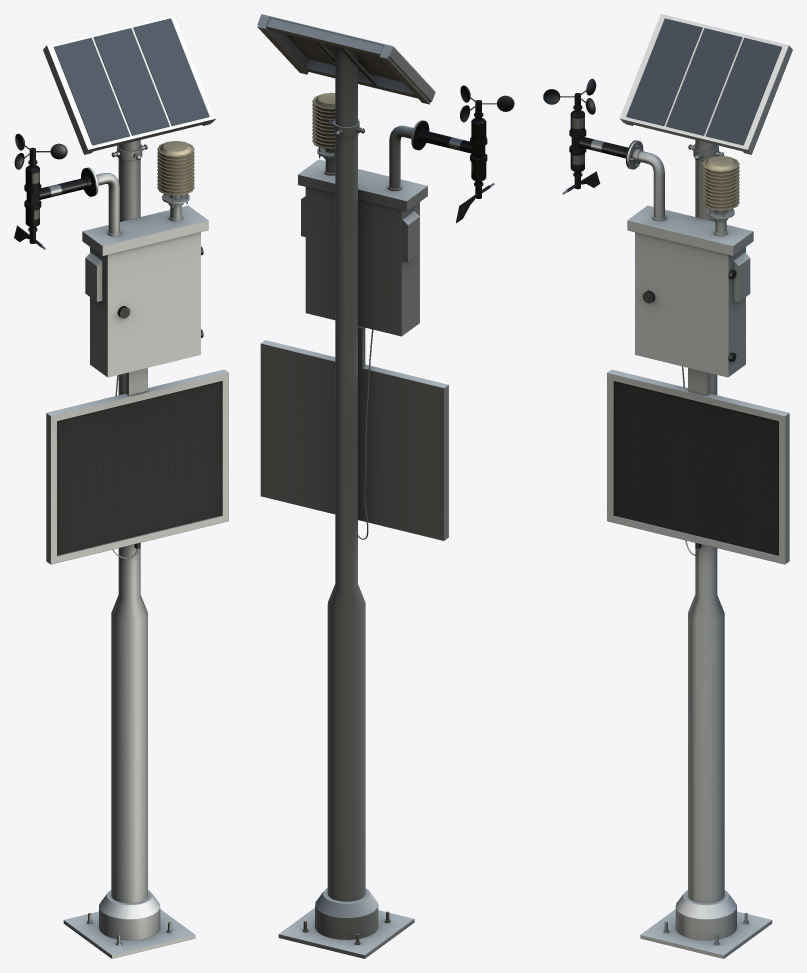
Rendered from weizhan.glb.
The picture shows the model from 3 angles, left to right: view 1: azimuth 30°, elevation 25°; view 2: azimuth 150°, elevation 25°; view 3: azimuth 330°, elevation 25°; orthographic projection. The views are drawn at different scales.
Visible parts, largest first — view 1: separated_04, separated_12; view 2: separated_04, separated_12; view 3: separated_04, separated_12.
Part boxes in pixels (left/top/right/bottom): separated_04: left=24, top=14, right=228, bottom=958; separated_12: left=14, top=133, right=67, bottom=169; separated_04: left=257, top=14, right=487, bottom=958; separated_12: left=460, top=85, right=514, bottom=122; separated_04: left=569, top=14, right=792, bottom=958; separated_12: left=543, top=78, right=596, bottom=114.
Size of the model in its own units: 0.4409 by 1.64 by 0.1794.
Materials: 1 (1 with a texture image).
